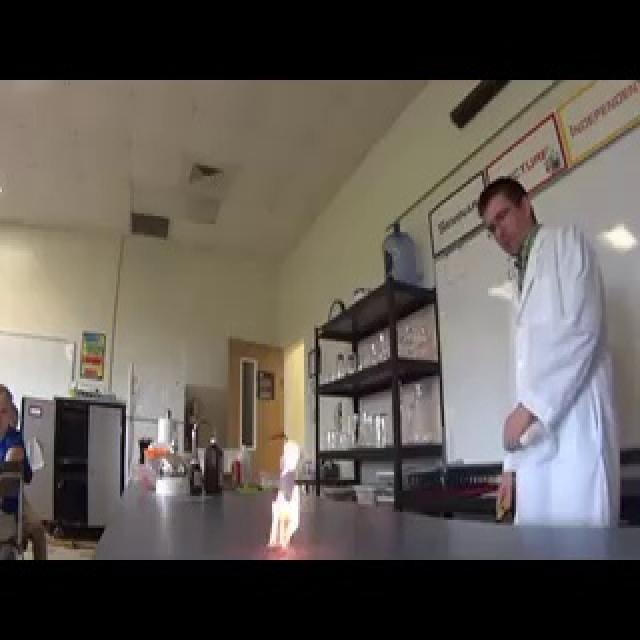fire: (259, 474, 311, 552)
